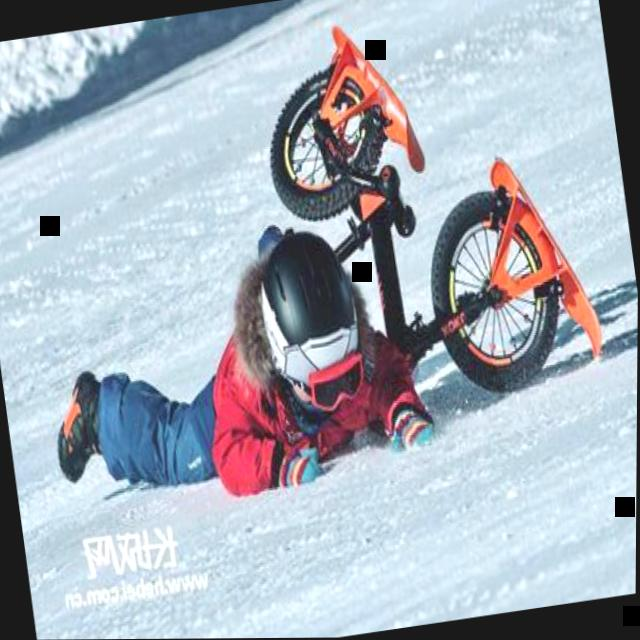Fall-Detected: (15, 166, 478, 537)
